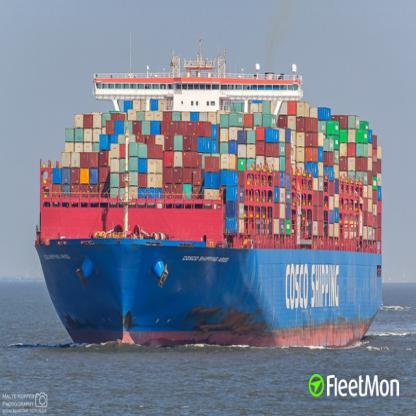Merchant Ship: (34, 38, 383, 349)
